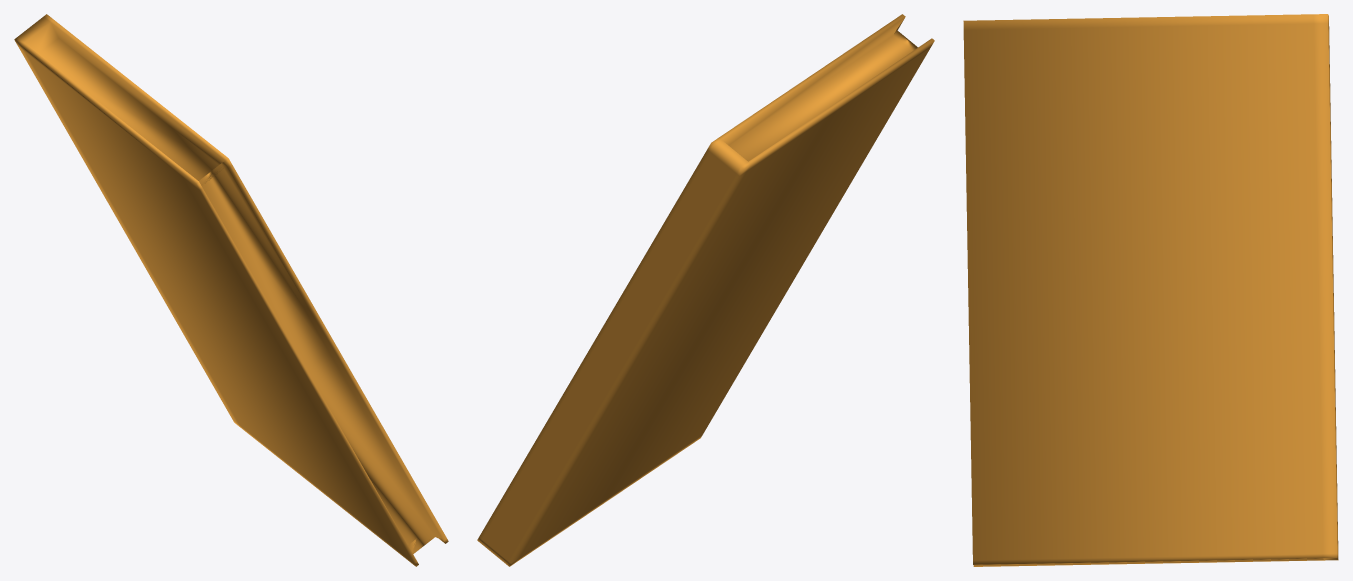
The model's file is Book_12.fbx.
3 renders of one model, left to right at view 1: azimuth 30°, elevation 25°; view 2: azimuth 150°, elevation 25°; view 3: azimuth 270°, elevation 25°, orthographic. The views are drawn at different scales.
Visible parts, largest first — view 1: Book_12; view 2: Book_12; view 3: Book_12.
Part boxes in pixels (x1,y1,x2,y2): Book_12: (14, 14, 448, 566); Book_12: (477, 14, 934, 566); Book_12: (963, 14, 1338, 566).
Size of the model in its own units: 18.98 by 32.62 by 24.02.
